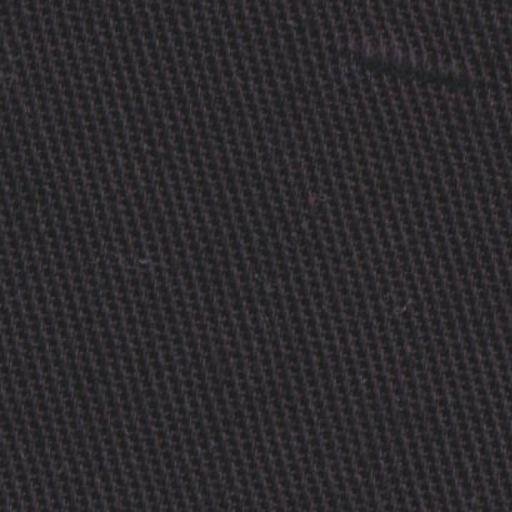DaiSha: (338, 12, 501, 100)
